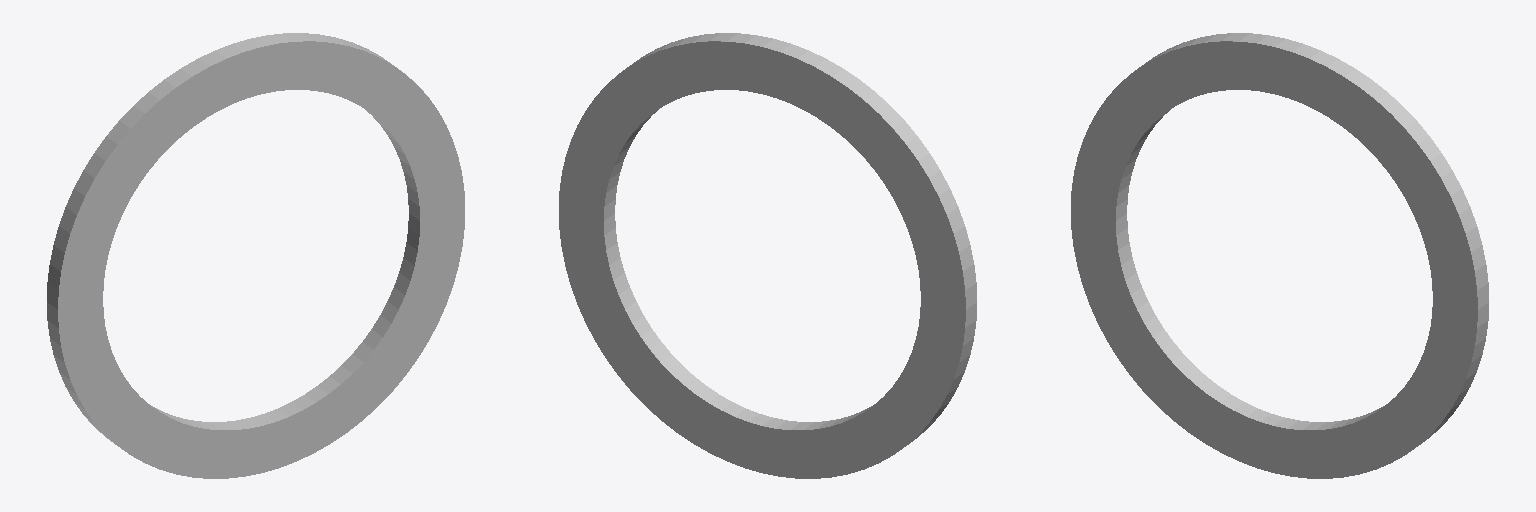
File: OuterPixels_NegativeEndcap_Ring0_passives_l19.obj
The picture shows the model from 3 angles: view 1: azimuth 30°, elevation 25°; view 2: azimuth 150°, elevation 25°; view 3: azimuth 330°, elevation 25°; orthographic projection.
Size of the model in its own units: 394 by 394 by 19.08.